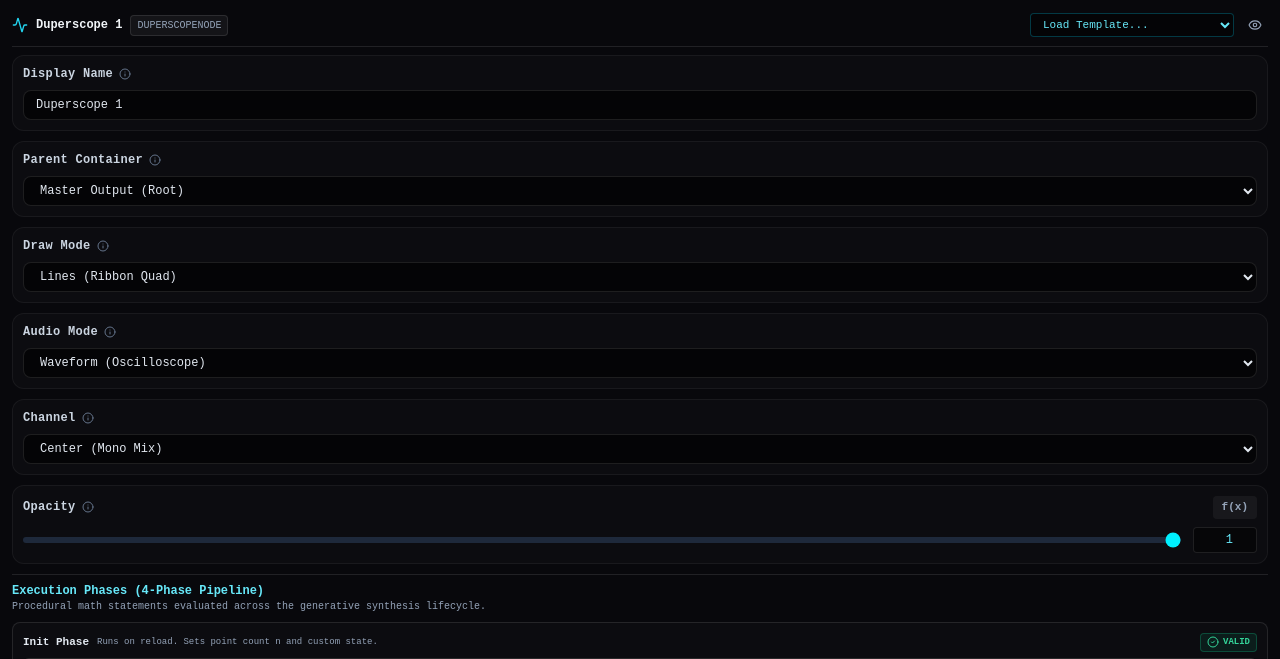
Duperscope Inspector Controls, 4-Phase Script Editor & Autocomplete (Task 4.2) › guards modified node with overwrite confirmation modal
Select "Frequency Spectrum Ribbon" in the dropdown with test id "duperscope-preset-dropdown" at coordinates (1132, 25), box [1030,13,1234,37]
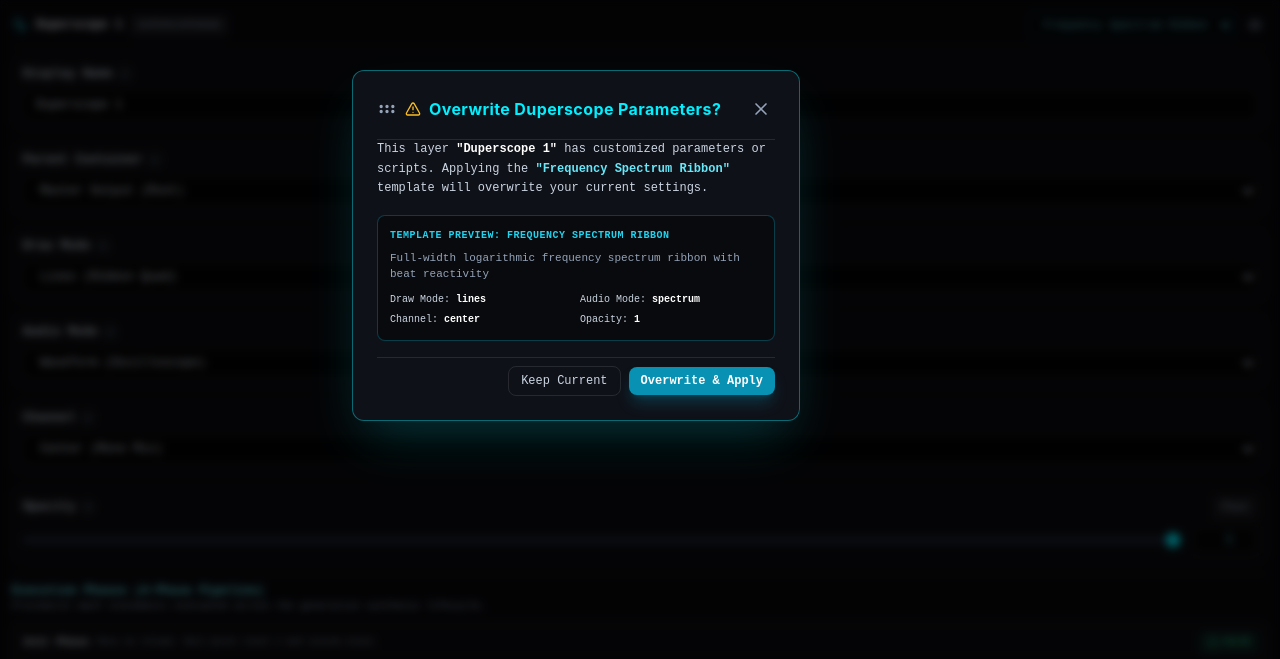
Expected: the element with test id "overwrite-duperscope-template-modal-header" is shown, [377,95,775,140]
Expected: the text "has customized parameters or scripts" is shown, [377,142,766,176]
Click the button with test id "cancel-overwrite-duperscope-template-btn" at coordinates (564, 380), box [508,366,621,396]
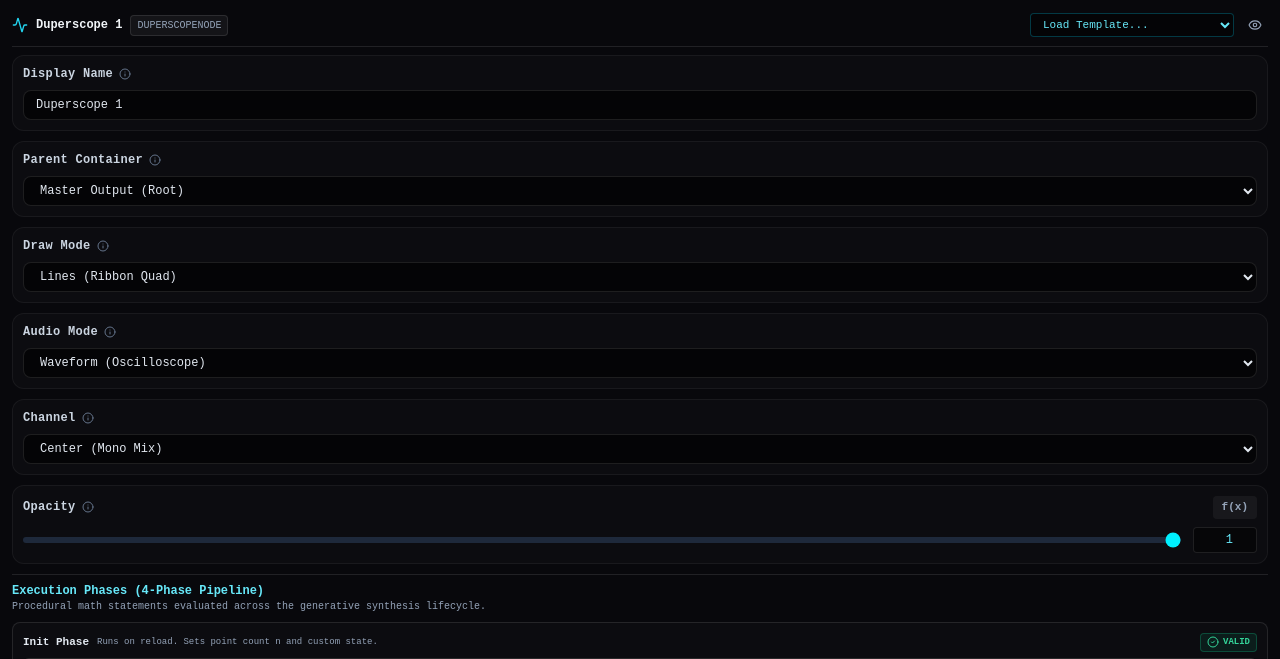
Expected: the element with test id "overwrite-duperscope-template-modal-header" is gone
Note: Trigger modal again and confirm
Select "Frequency Spectrum Ribbon" in the dropdown with test id "duperscope-preset-dropdown" at coordinates (1132, 25), box [1030,13,1234,37]
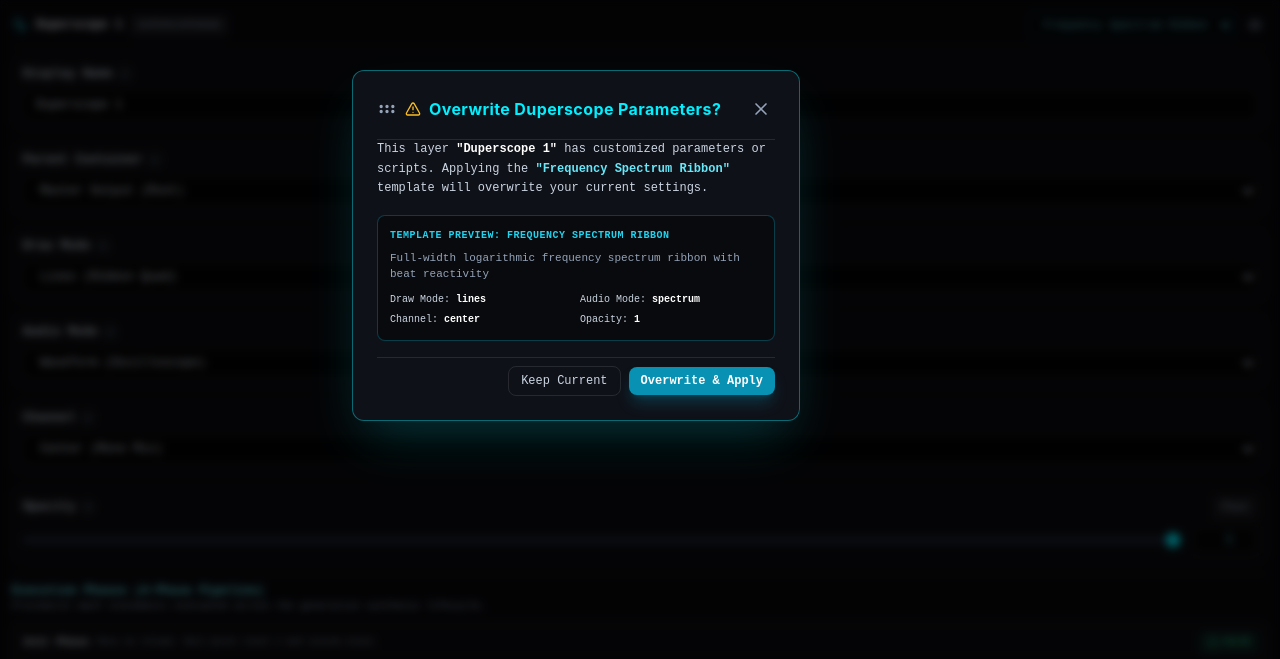
Click the button with test id "confirm-overwrite-duperscope-template-btn" at coordinates (702, 380), box [629,366,775,394]
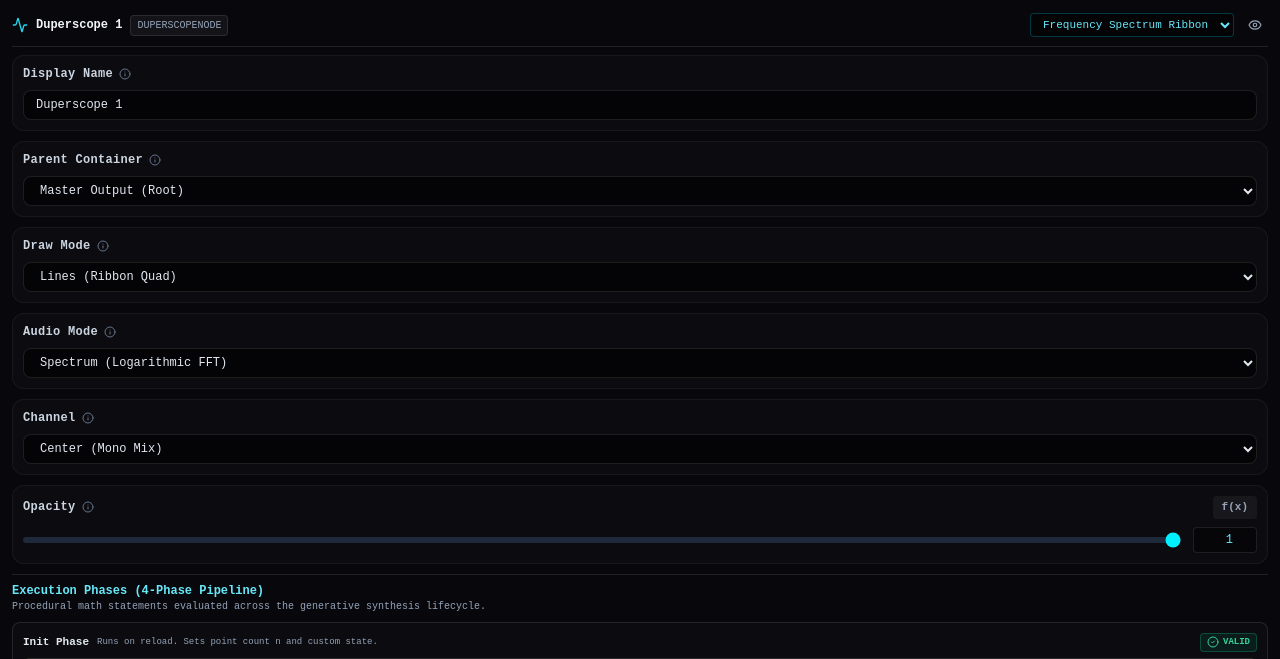
Expected: the element with test id "overwrite-duperscope-template-modal-header" is gone
